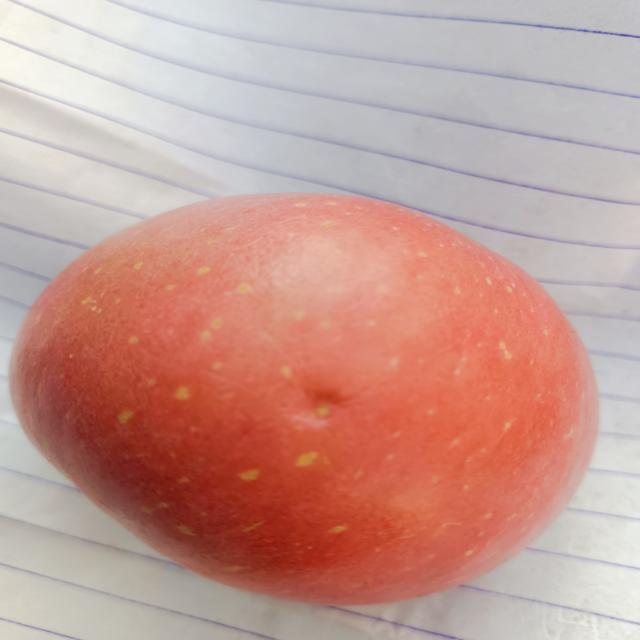Fresh Apple: (13, 193, 597, 610)
